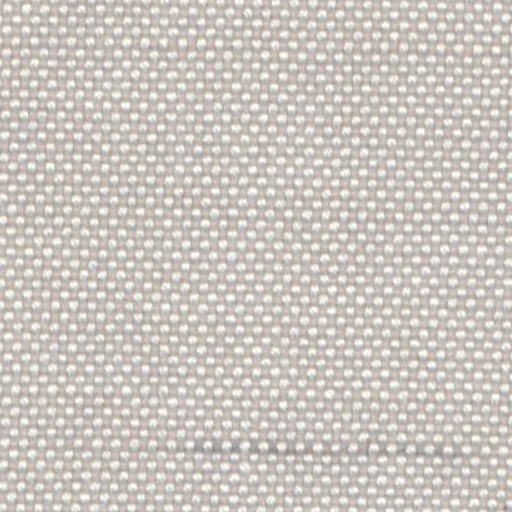WuZi: (168, 431, 448, 466)
